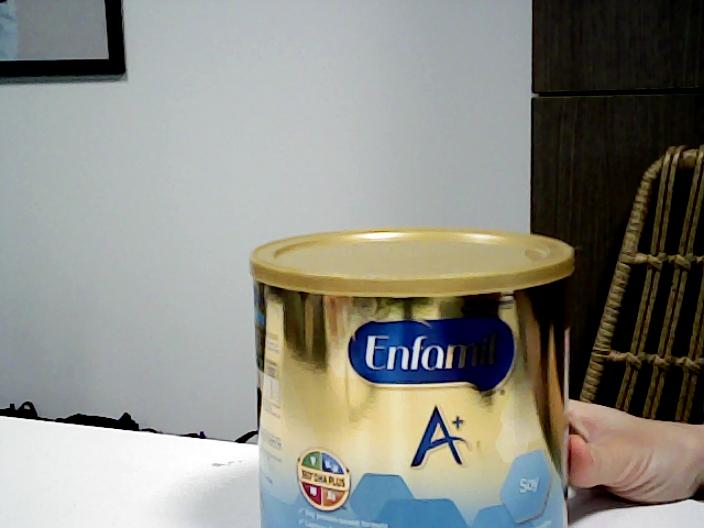Babymilk-powder-_800-899g_NonHalal_NonHealthy: (247, 228, 577, 528)
